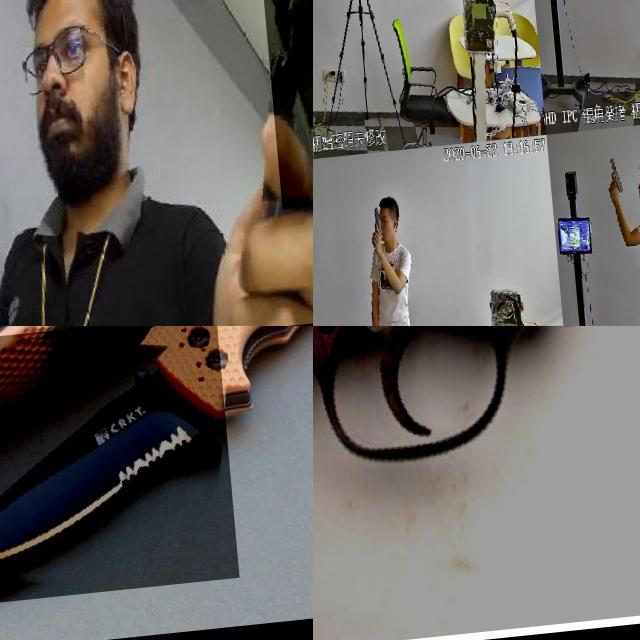-: (0, 326, 228, 612), (236, 0, 313, 246), (172, 326, 313, 409)
gun-knife-thesis - v11 Yolov5 augmented: (313, 326, 640, 640), (596, 160, 615, 202), (361, 205, 376, 249), (314, 0, 344, 17)
